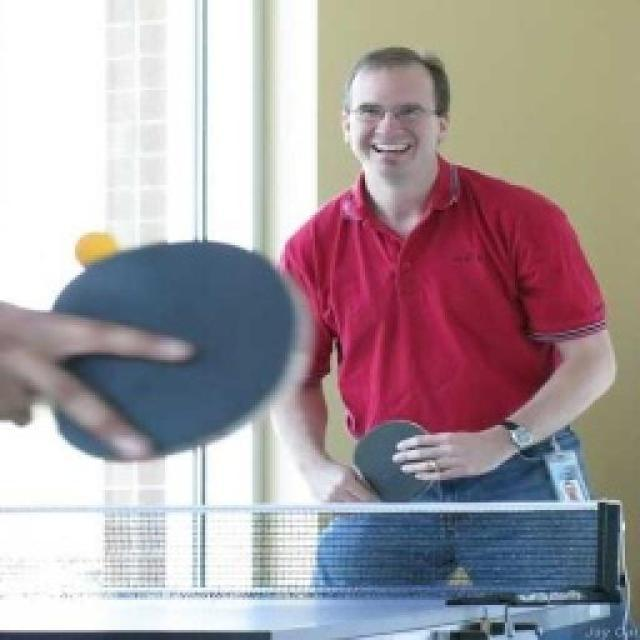oball: (75, 232, 118, 268)
